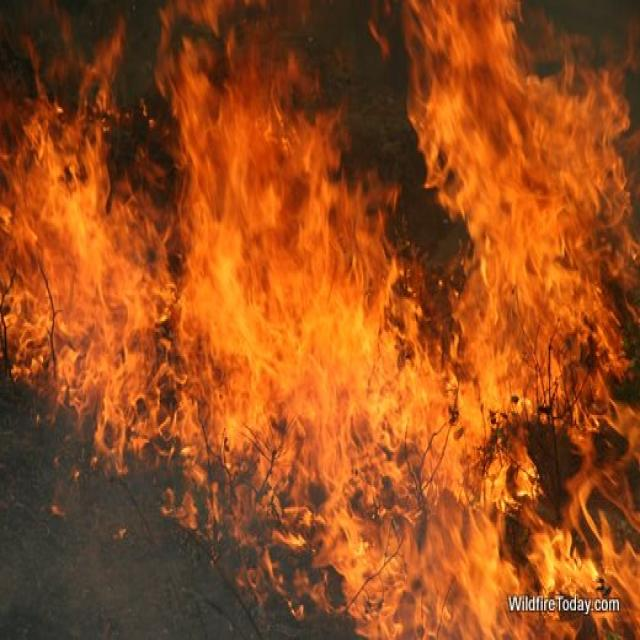fire: (459, 77, 611, 391), (193, 208, 399, 430), (331, 506, 640, 640), (17, 174, 162, 411)
